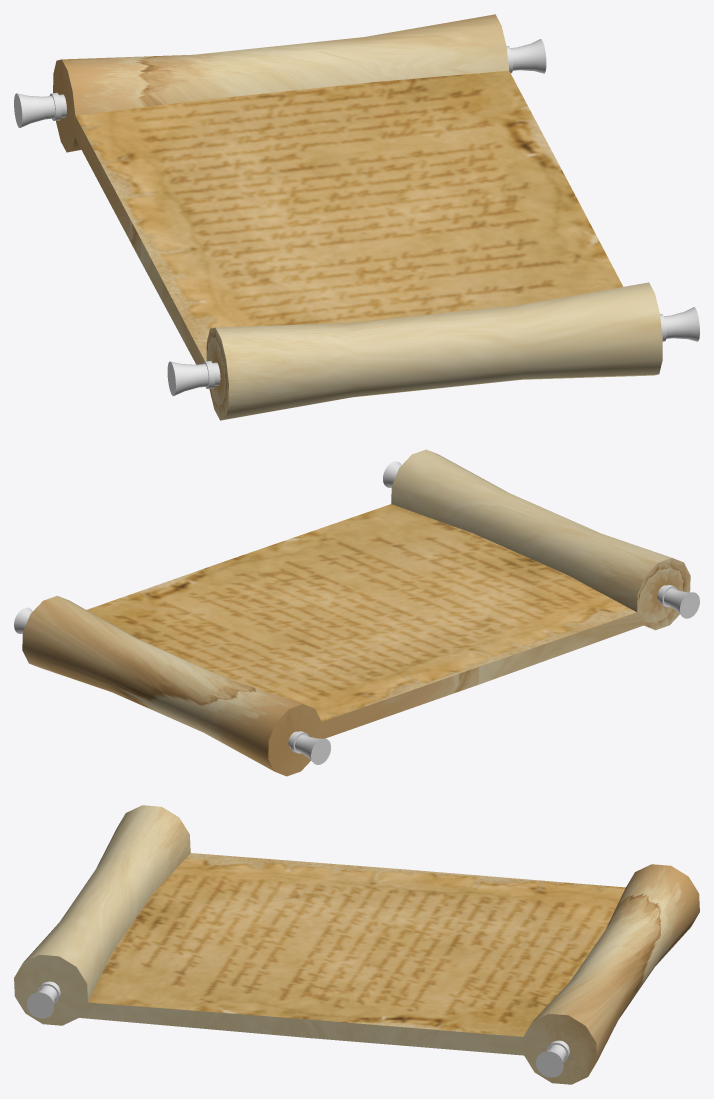
File: OpenScroll.fbx
3 renders of one model, top to bottom at view 1: azimuth 30°, elevation 25°; view 2: azimuth 150°, elevation 25°; view 3: azimuth 270°, elevation 25°, orthographic. The views are drawn at different scales.
Visible parts, largest first — view 1: Cylinder049, Object025; view 2: Cylinder049, Object025; view 3: Cylinder049, Object025.
Boxes of the visible parts, bbox=[...] form: Cylinder049: bbox=[53, 14, 662, 420]; Object025: bbox=[14, 39, 699, 396]; Cylinder049: bbox=[22, 449, 690, 776]; Object025: bbox=[14, 461, 699, 764]; Cylinder049: bbox=[14, 805, 699, 1084]; Object025: bbox=[26, 981, 569, 1077].
Bounding box in the file's own units: 2.94 × 3.46 × 0.408.
